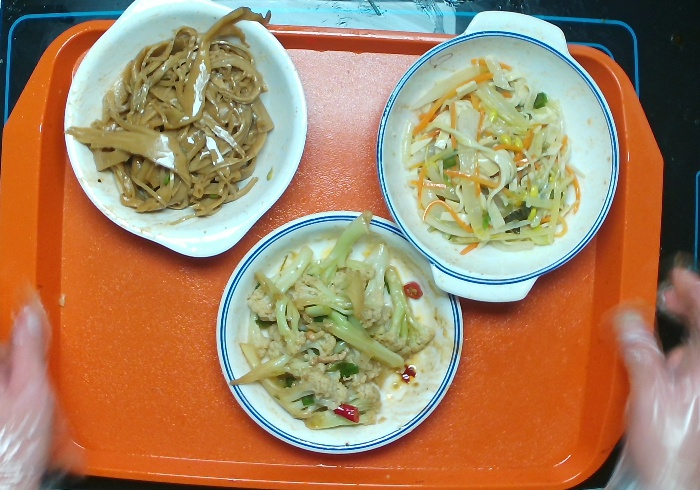HZYJPL-Dai_Er_Bai_Yuan_Wan: (63, 1, 308, 258)
HZYJPL-Lan_Bian_Dai_Er_Wan: (376, 8, 623, 304)
HZYJPL-Lan_Bian_Yuan_Die: (216, 210, 464, 457)
